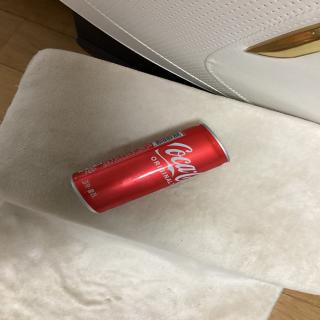cocacola: (53, 113, 239, 224)
